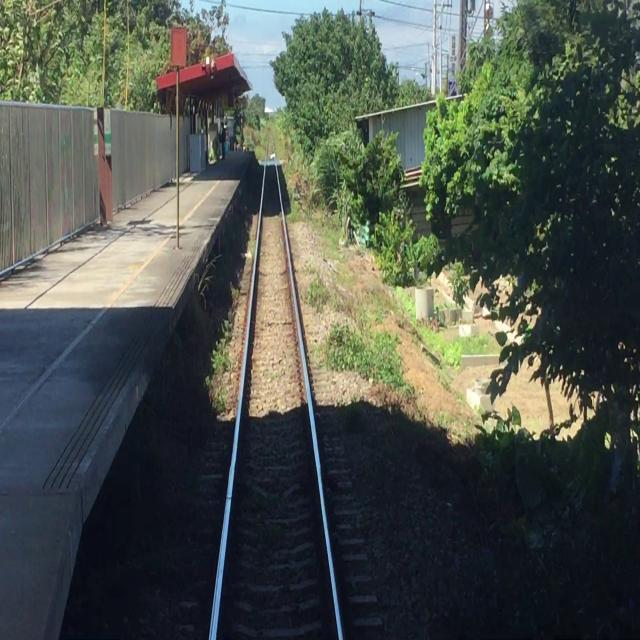rail: (188, 132, 385, 640)
